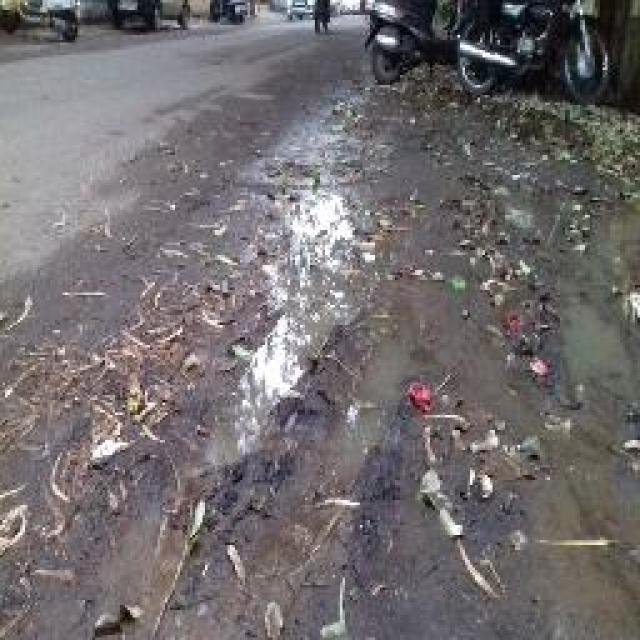puddle: (205, 191, 383, 474)
